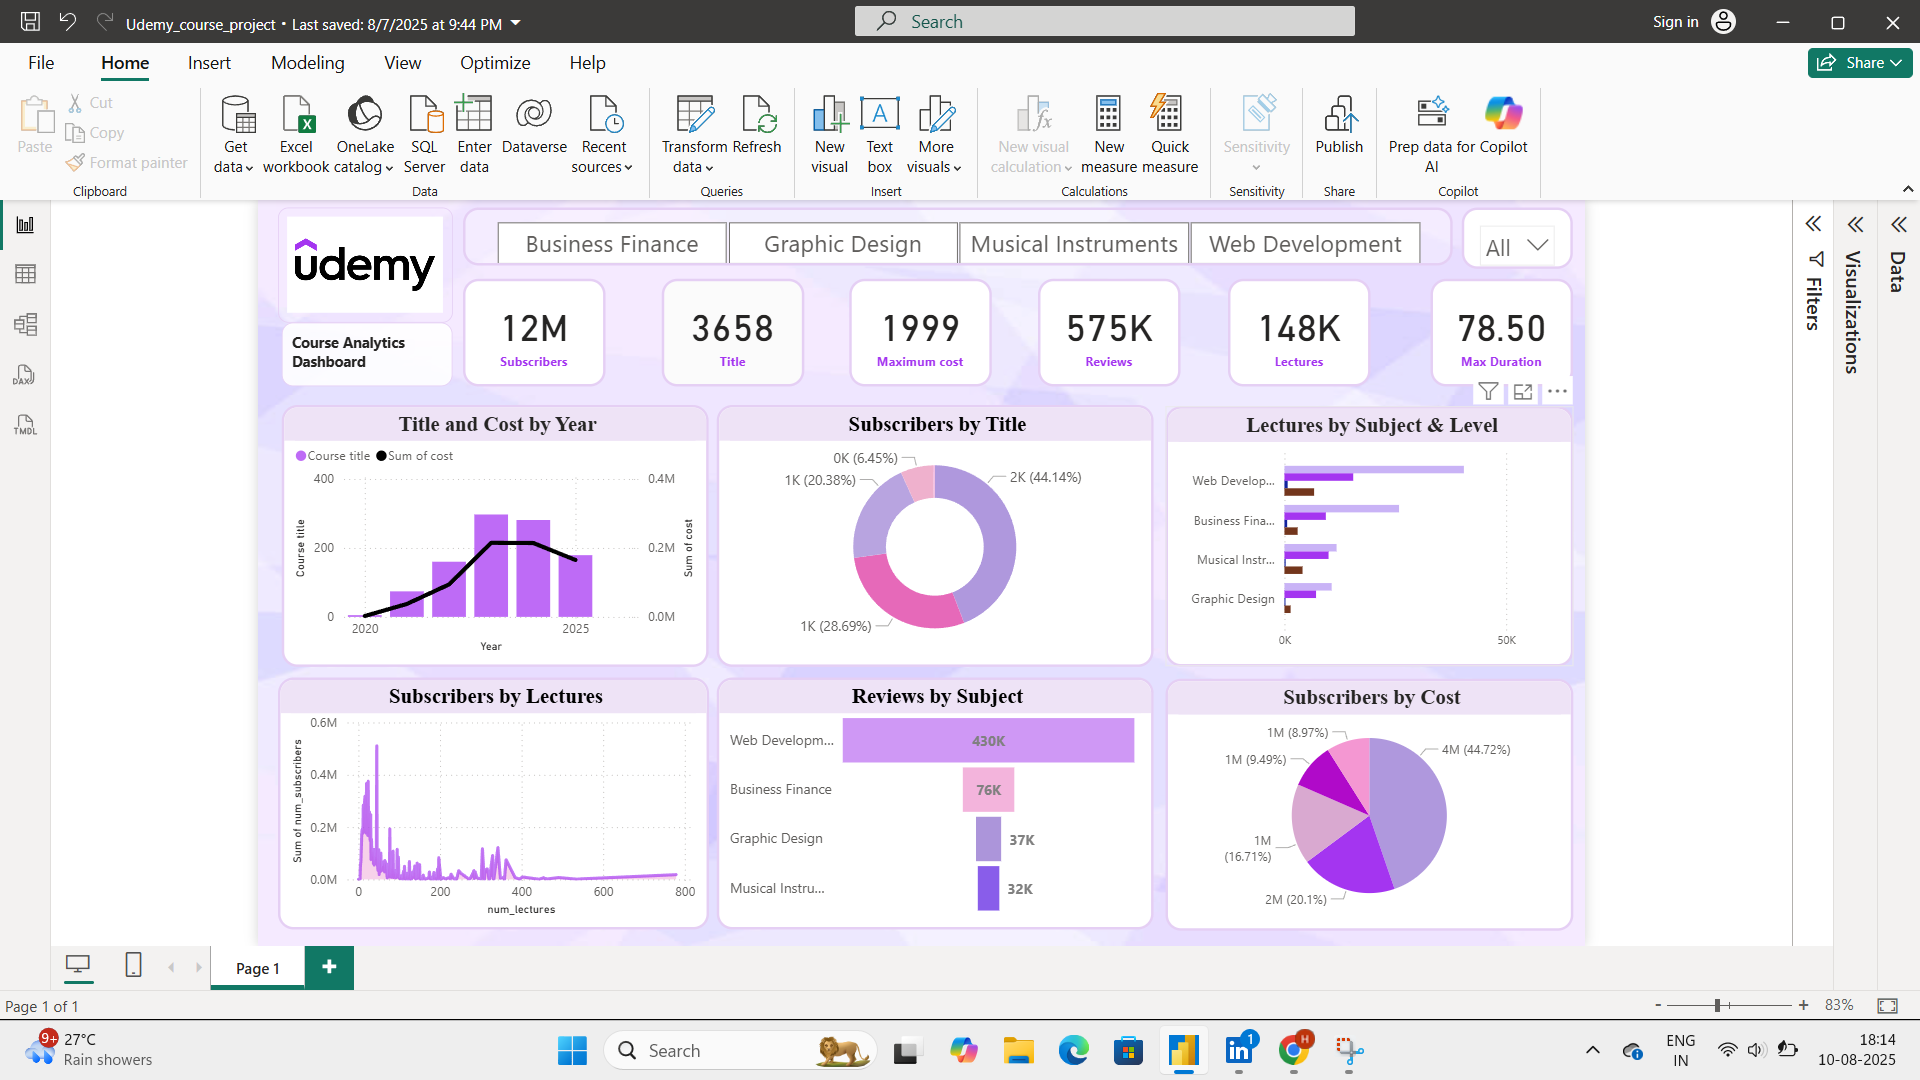

What the dashboard file says about the page in this screenshot:
{"tool":"powerbi","page":{"name":"Page 1","canvas":[1280,720],"ordinal":0},"visuals":[{"type":"card","title":"Total courses","fields":{"Values":["Count(udemy_course.course_title)"]},"box":[389.7,75.5,137.2,104.3],"z":0},{"type":"card","title":"Subscribers","fields":{"Values":["Sum(udemy_course.num_subscribers)"]},"box":[197.6,75.5,137.2,104.3],"z":1000},{"type":"donutChart","title":"Subscribers by Title","fields":{"Y":["Sum(udemy_course.num_subscribers)"],"Category":["udemy_course.course_title"]},"box":[443.2,197.6,421.3,252.5],"z":2000},{"type":"lineChart","title":"Subscribers by Lectures","fields":{"Category":["udemy_course.num_lectures"],"Y":["Sum(udemy_course.num_subscribers)"]},"box":[19.2,461.1,415.8,242.9],"z":3000},{"type":"slicer","fields":{"Values":["udemy_course.subject"]},"box":[197.6,6.9,955.1,56.3],"z":4000},{"type":"card","title":"Maximum Cost","fields":{"Values":["Max(udemy_course.content_duration)"]},"box":[1132.1,75.5,137.2,104.3],"z":5000},{"type":"card","title":"Maximum Cost","fields":{"Values":["Sum(udemy_course.num_lectures)"]},"box":[935.9,75.5,137.2,104.3],"z":6000},{"type":"card","title":"Maximum Cost","fields":{"Values":["Sum(udemy_course.num_reviews)"]},"box":[753.3,75.5,137.2,104.3],"z":7000},{"type":"image","box":[19.2,6.9,168.8,111.1],"z":8000},{"type":"pieChart","title":"Subscribers by Cost","fields":{"Category":["udemy_course.cost"],"Y":["Sum(udemy_course.num_subscribers)"]},"box":[875.5,462.4,393.8,242.9],"z":9000},{"type":"lineStackedColumnComboChart","title":"Title and Cost by Year","fields":{"Y":["Count(udemy_course.course_title)"],"Y2":["Sum(udemy_course.cost)"],"Category":["udemy_course.published.Variation.Date Hierarchy.Year"]},"box":[23.3,197.6,411.7,252.5],"z":10000},{"type":"card","title":"Maximum Cost","fields":{"Values":["Max(udemy_course.cost)"]},"box":[570.8,75.5,137.2,104.3],"z":11000},{"type":"clusteredBarChart","title":"Lectures by Subject & Level","fields":{"Category":["udemy_course.subject"],"Series":["udemy_course.level"],"Y":["Sum(udemy_course.num_lectures)"]},"box":[875.5,199,393.8,251.1],"z":12000},{"type":"funnel","title":"Reviews  by Subject","fields":{"Category":["udemy_course.subject"],"Y":["Sum(udemy_course.num_reviews)"]},"box":[443.2,461.1,421.3,242.9],"z":13000},{"type":"textbox","box":[23.3,118,164.7,61.7],"z":14000},{"type":"slicer","fields":{"Values":["LocalDateTable_4853b490-fee6-4365-a155-79c2f8e49beb.Year"]},"box":[1161.8,7.2,107.4,59.1],"z":15000}]}

Visuals, with their boxes on the page's 1280x720 design canvas (x1, y1, x2, y2). These are canvas units, not pixel positions in the 1920x1080 screenshot, which may show the page scaled, cropped or inside an application window:
"Total courses" card: pyautogui.locateOnScreen(390, 76, 527, 180)
"Subscribers" card: pyautogui.locateOnScreen(198, 76, 335, 180)
"Subscribers by Title" donutChart: pyautogui.locateOnScreen(443, 198, 864, 450)
"Subscribers by Lectures" lineChart: pyautogui.locateOnScreen(19, 461, 435, 704)
slicer - udemy_course.subject: pyautogui.locateOnScreen(198, 7, 1153, 63)
"Maximum Cost" card: pyautogui.locateOnScreen(1132, 76, 1269, 180)
"Maximum Cost" card: pyautogui.locateOnScreen(936, 76, 1073, 180)
"Maximum Cost" card: pyautogui.locateOnScreen(753, 76, 890, 180)
image: pyautogui.locateOnScreen(19, 7, 188, 118)
"Subscribers by Cost" pieChart: pyautogui.locateOnScreen(876, 462, 1269, 705)
"Title and Cost by Year" lineStackedColumnComboChart: pyautogui.locateOnScreen(23, 198, 435, 450)
"Maximum Cost" card: pyautogui.locateOnScreen(571, 76, 708, 180)
"Lectures by Subject & Level" clusteredBarChart: pyautogui.locateOnScreen(876, 199, 1269, 450)
"Reviews  by Subject" funnel: pyautogui.locateOnScreen(443, 461, 864, 704)
textbox: pyautogui.locateOnScreen(23, 118, 188, 180)
slicer - LocalDateTable_4853b490-fee6-4365-a155-79c2f8e49beb.Year: pyautogui.locateOnScreen(1162, 7, 1269, 66)
